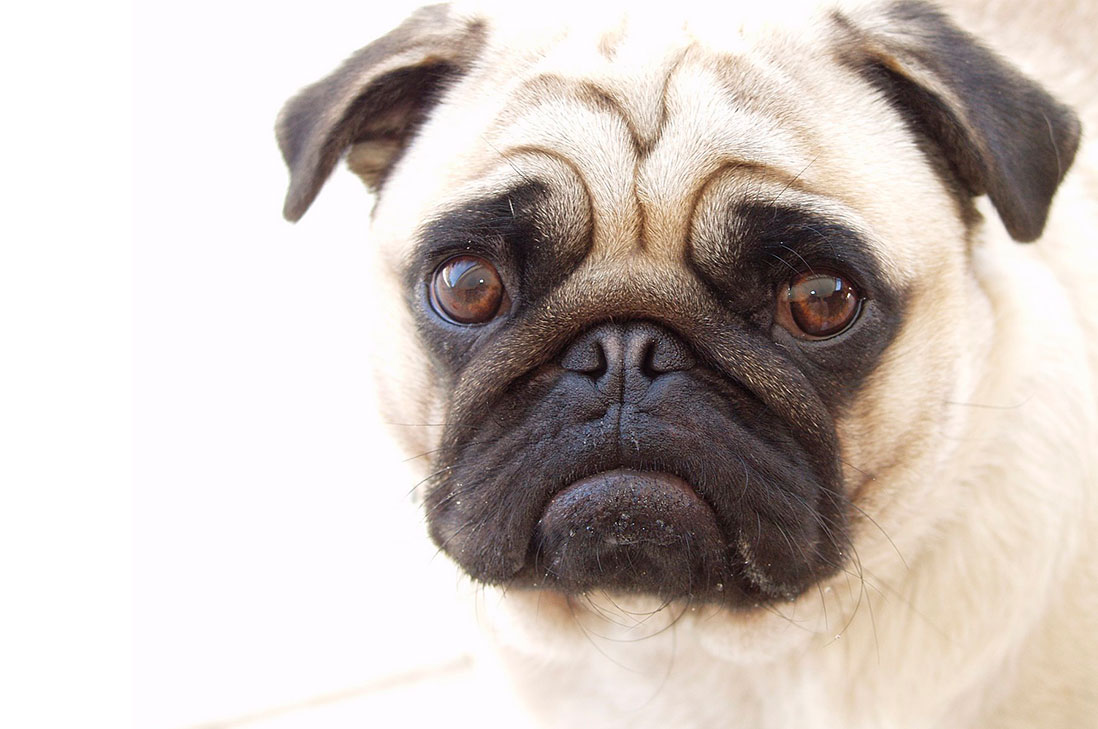dog: (228, 1, 1098, 729)
